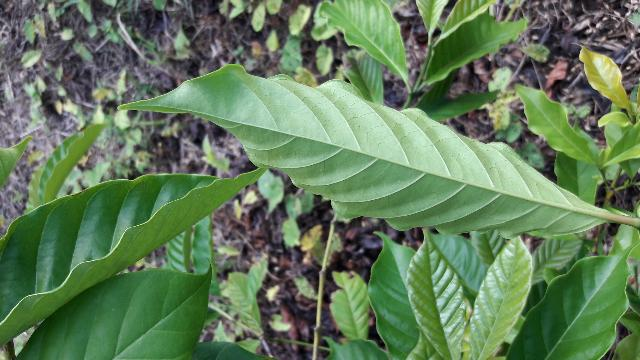healthy: (115, 62, 606, 237)
